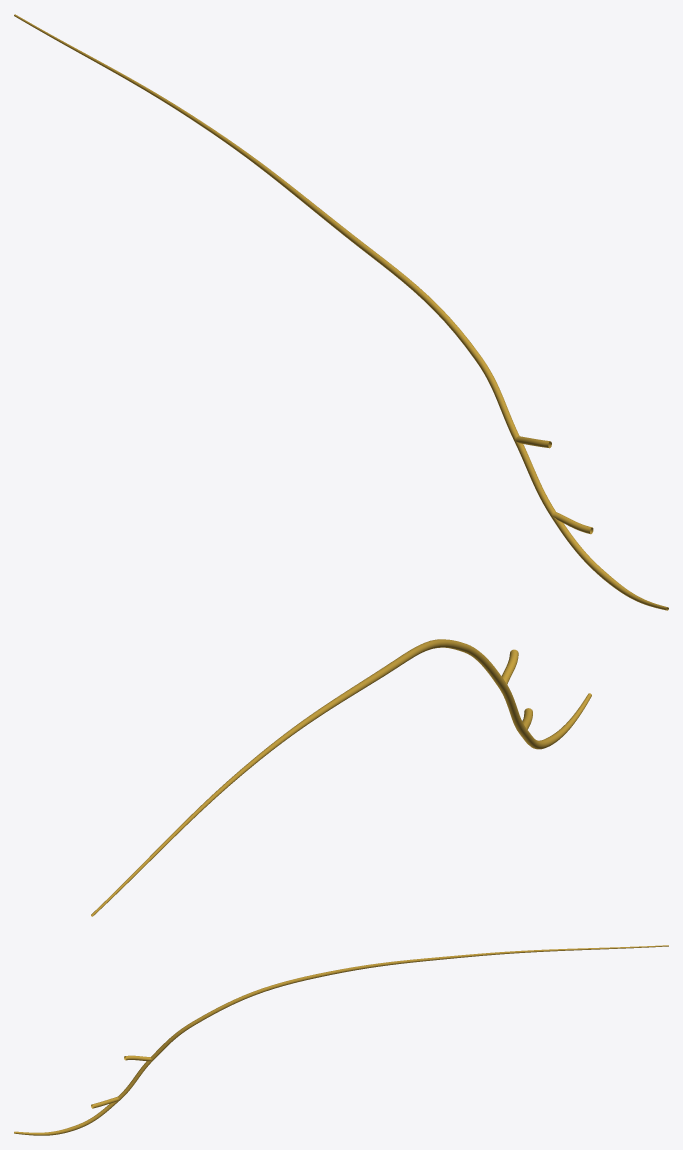
The picture shows the model from 3 angles, top to bottom: view 1: azimuth 30°, elevation 25°; view 2: azimuth 150°, elevation 25°; view 3: azimuth 270°, elevation 25°; orthographic projection. The views are drawn at different scales.
Parts seen in each view (by area): view 1: 右侧股后皮神经; view 2: 右侧股后皮神经; view 3: 右侧股后皮神经.
Part boxes in pixels (x1,y1,x2,y2): 右侧股后皮神经: (14,14,668,610); 右侧股后皮神经: (91,639,591,916); 右侧股后皮神经: (14,945,668,1135).
Bounding box in the file's own units: 0.0616 × 0.1146 × 0.4375.
